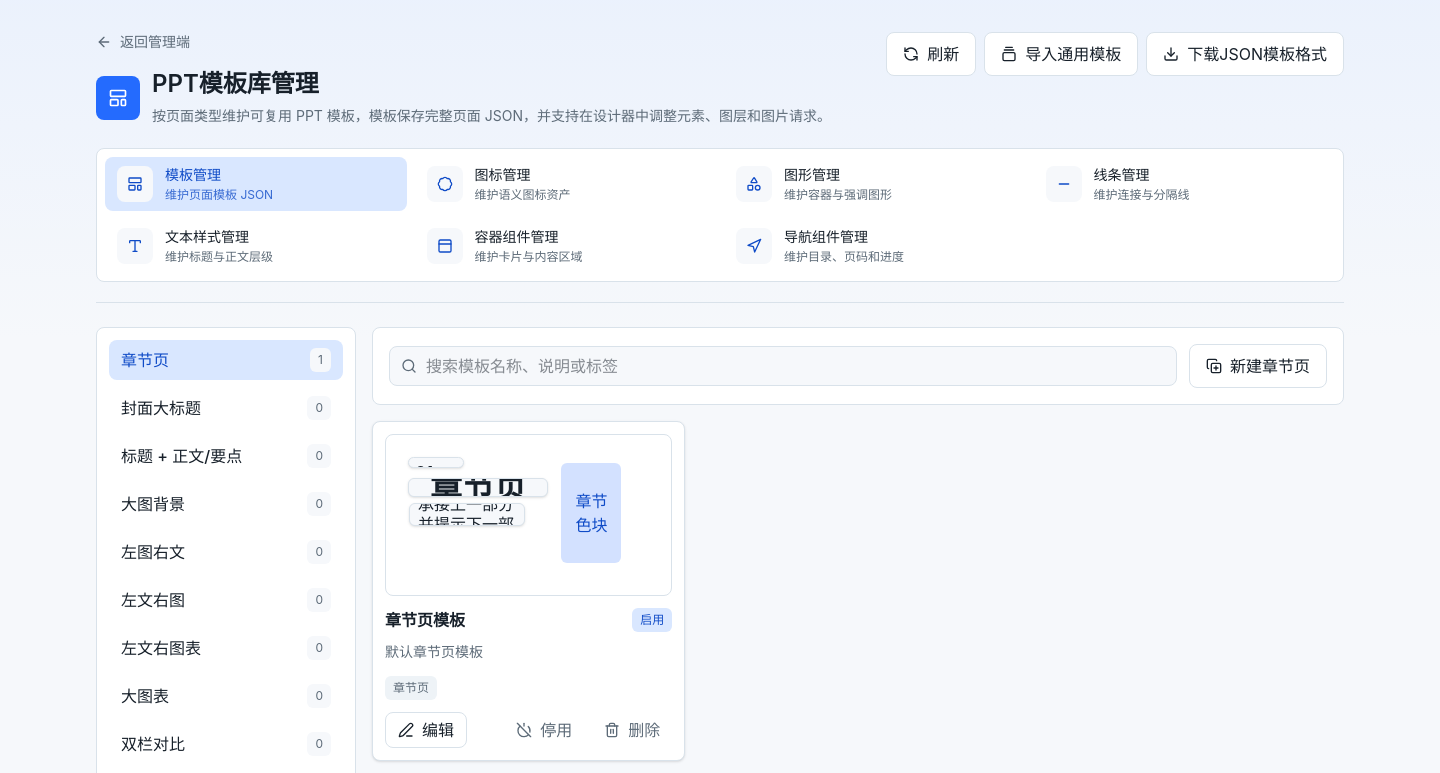
AdminTemplatesManagement › imports the universal template package after confirmation
Click the button "导入通用模板" at {"x": 1061, "y": 54}, box x1=984 y1=32 x2=1138 y2=76
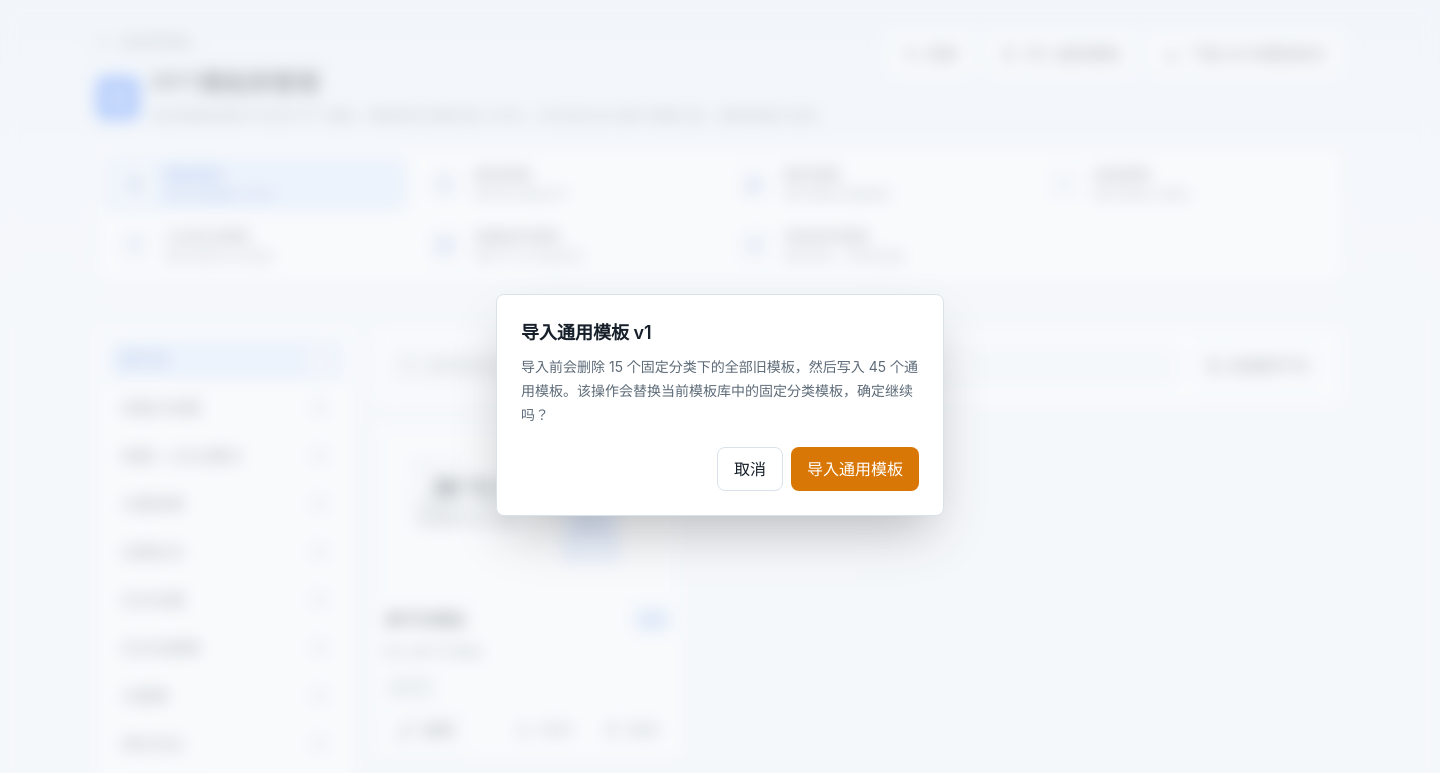
Click the button "导入通用模板" at {"x": 855, "y": 469}, box x1=791 y1=447 x2=919 y2=491
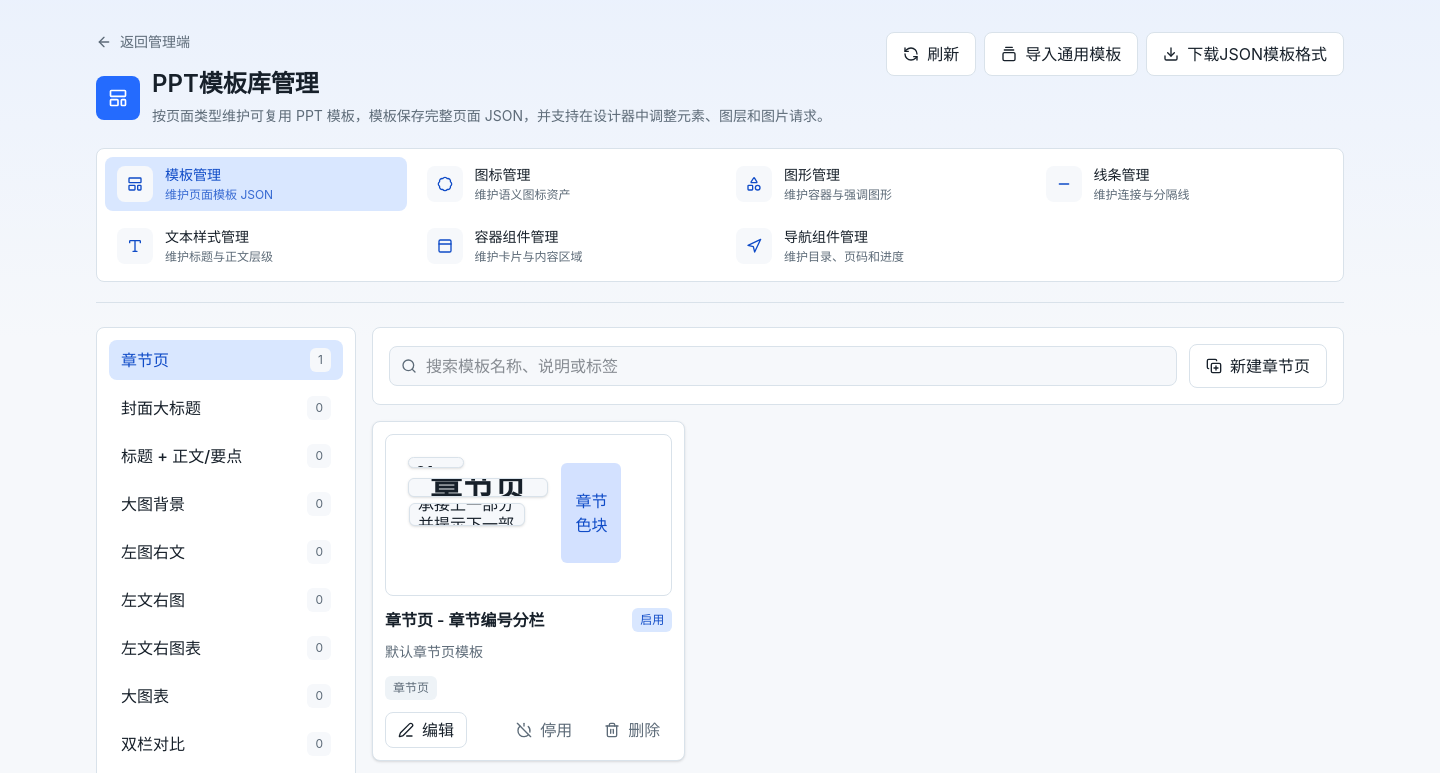
Check: the heading "章节页 - 章节编号分栏" is shown, box x1=385 y1=608 x2=544 y2=632
